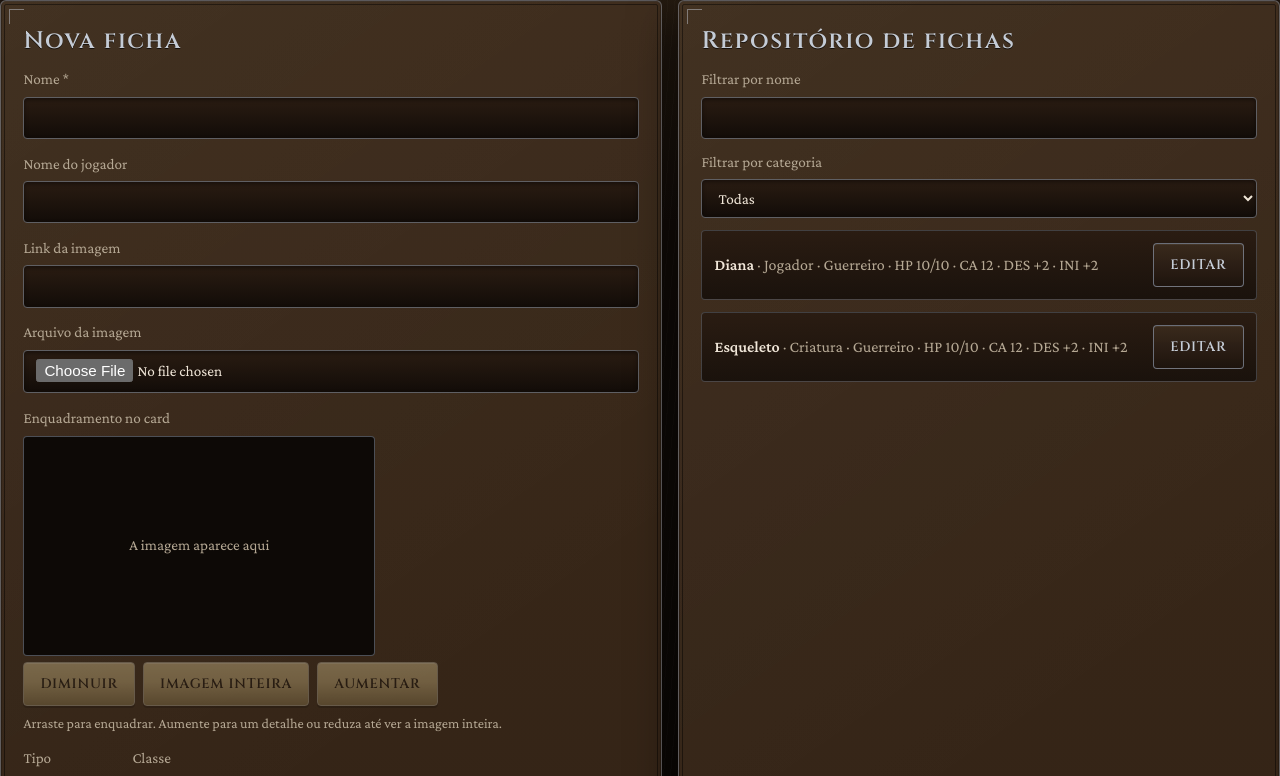
SheetsPage filtro › fichas_FiltroCategoria_EscondeOutrosTipos
Check: the text "Diana" is shown, box [714, 256, 754, 273]
Check: the text "Esqueleto" is shown, box [714, 338, 780, 355]
Select "Criatura" in the dropdown labelled "Filtrar por categoria": (979, 199) [702, 179, 1257, 218]
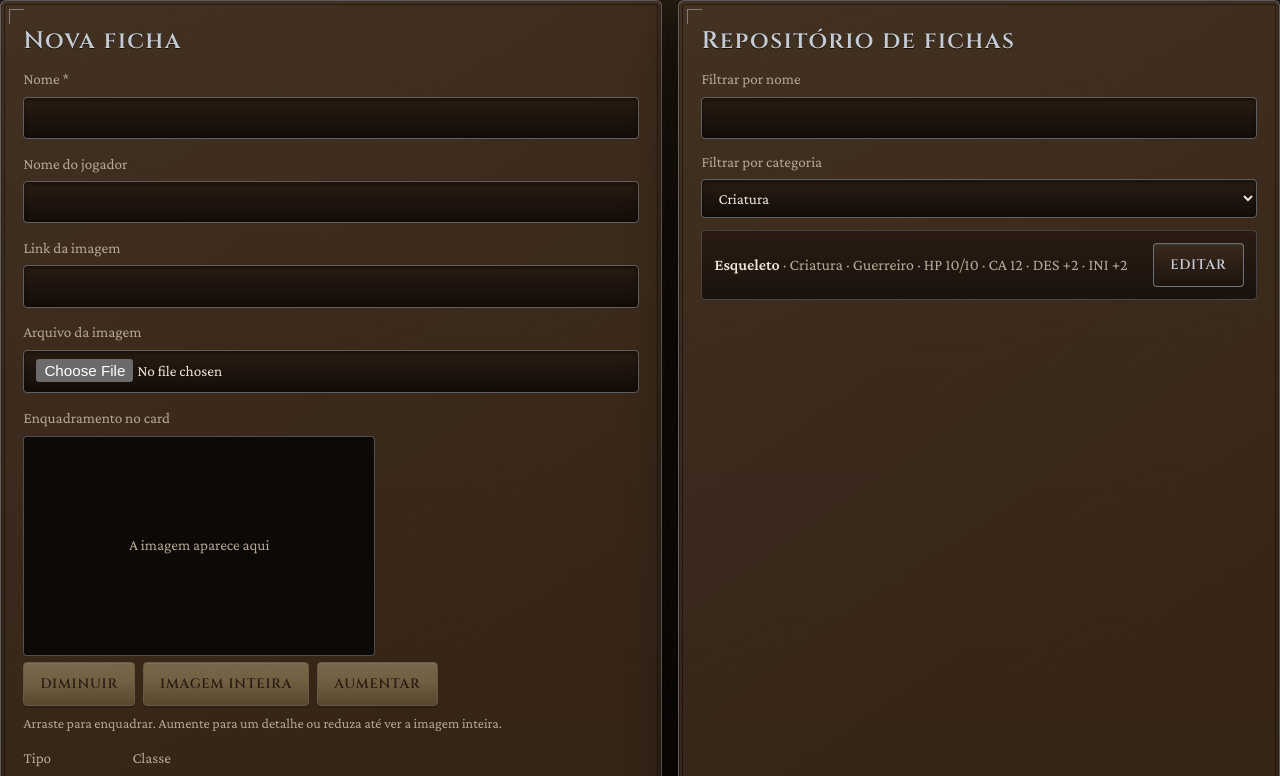
Check: the text "Esqueleto" is shown, box [714, 256, 780, 273]
Check: the text "Diana" is gone
Select "NPC" in the dropdown labelled "Filtrar por categoria": (979, 199) [702, 179, 1257, 218]
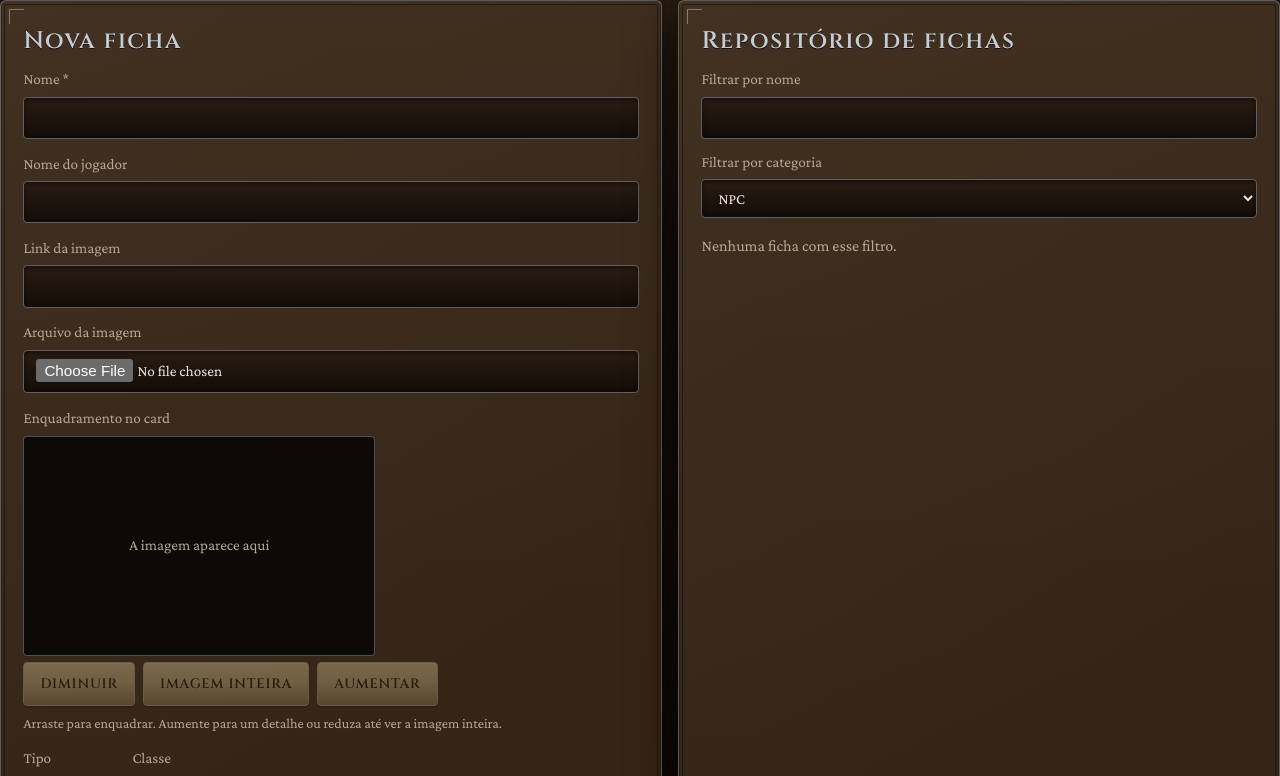
Check: the text "Nenhuma ficha com esse filtro." is shown, box [702, 237, 897, 254]
Check: the text "Esqueleto" is gone
